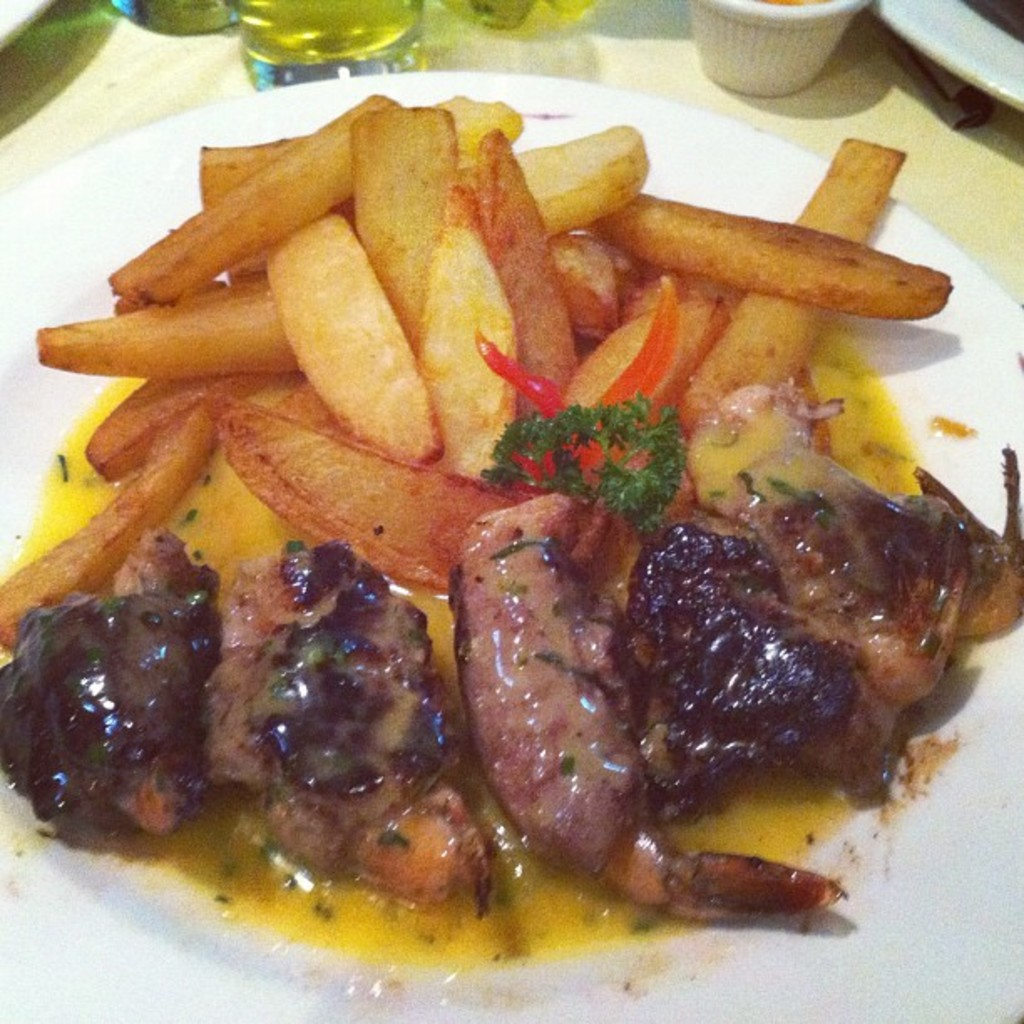French fries: (43, 78, 861, 456)
